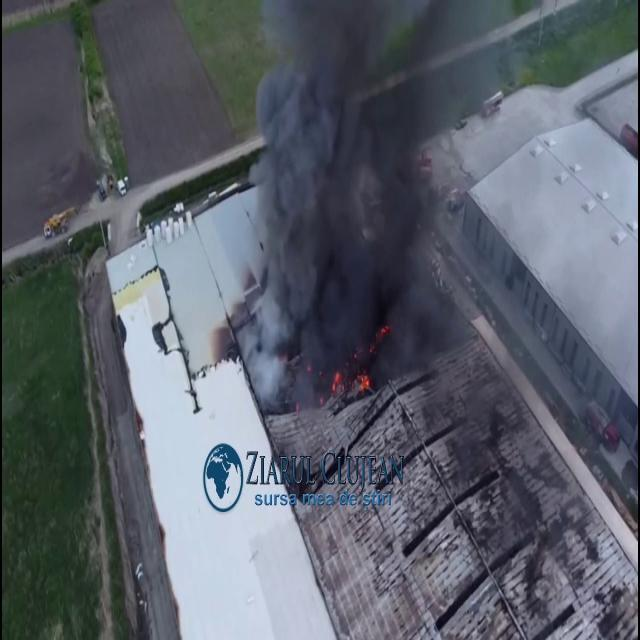Smoke: (228, 0, 462, 396)
